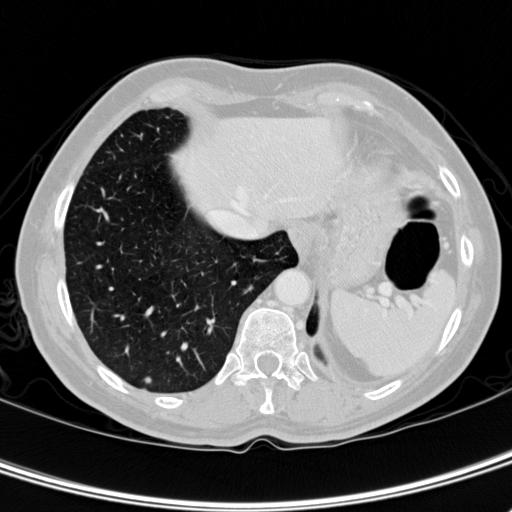nodule: (142, 374, 154, 386)
